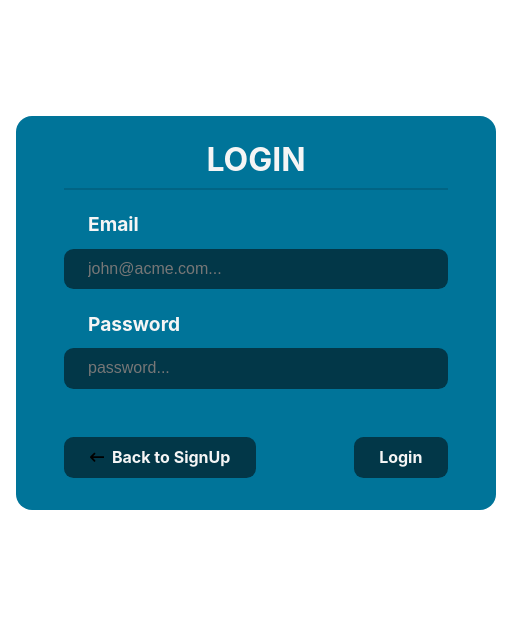
Work router › Should go to /signup
This screenshot has width=513, height=627.
Click the link "Back to SignUp": coordinates (160, 458) [64, 437, 256, 478]
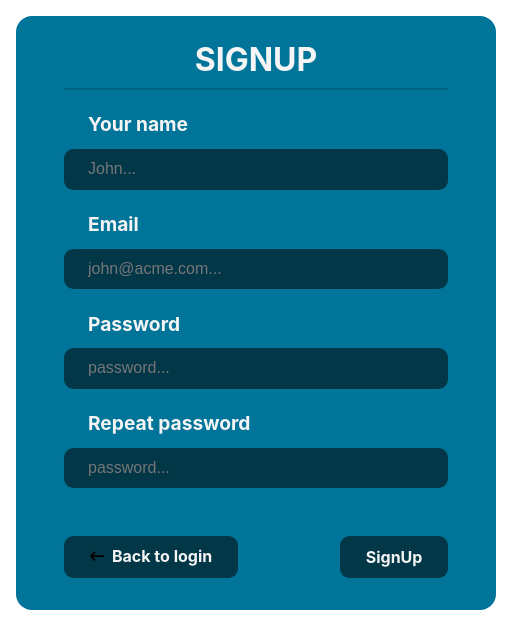
Result: the heading reads "SIGNUP" at [195, 40, 317, 79]
